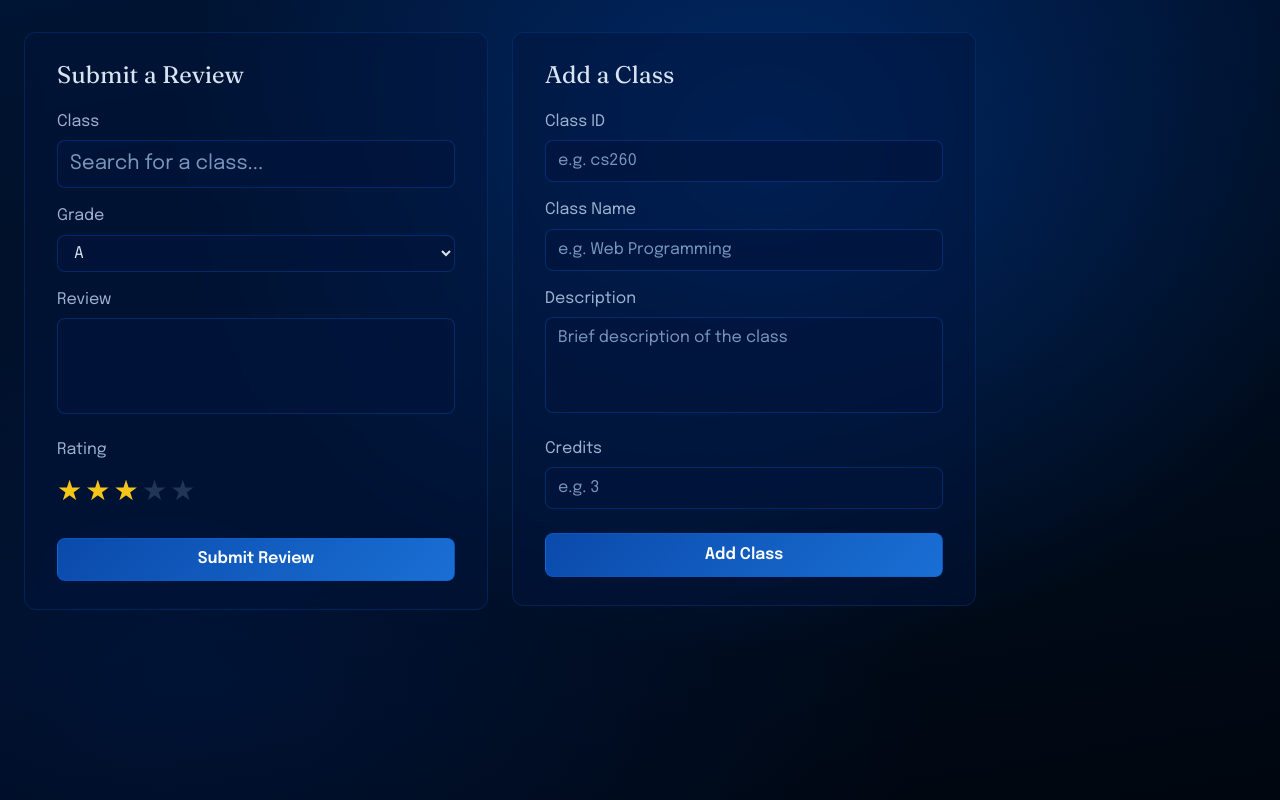
Test: ReviewMakerPage › shows error for an unrecognized class ID
This screenshot has width=1280, height=800.
Type "invalid999" into the field with placeholder "Search for a class..." at (256, 164), box x1=57 y1=140 x2=455 y2=188
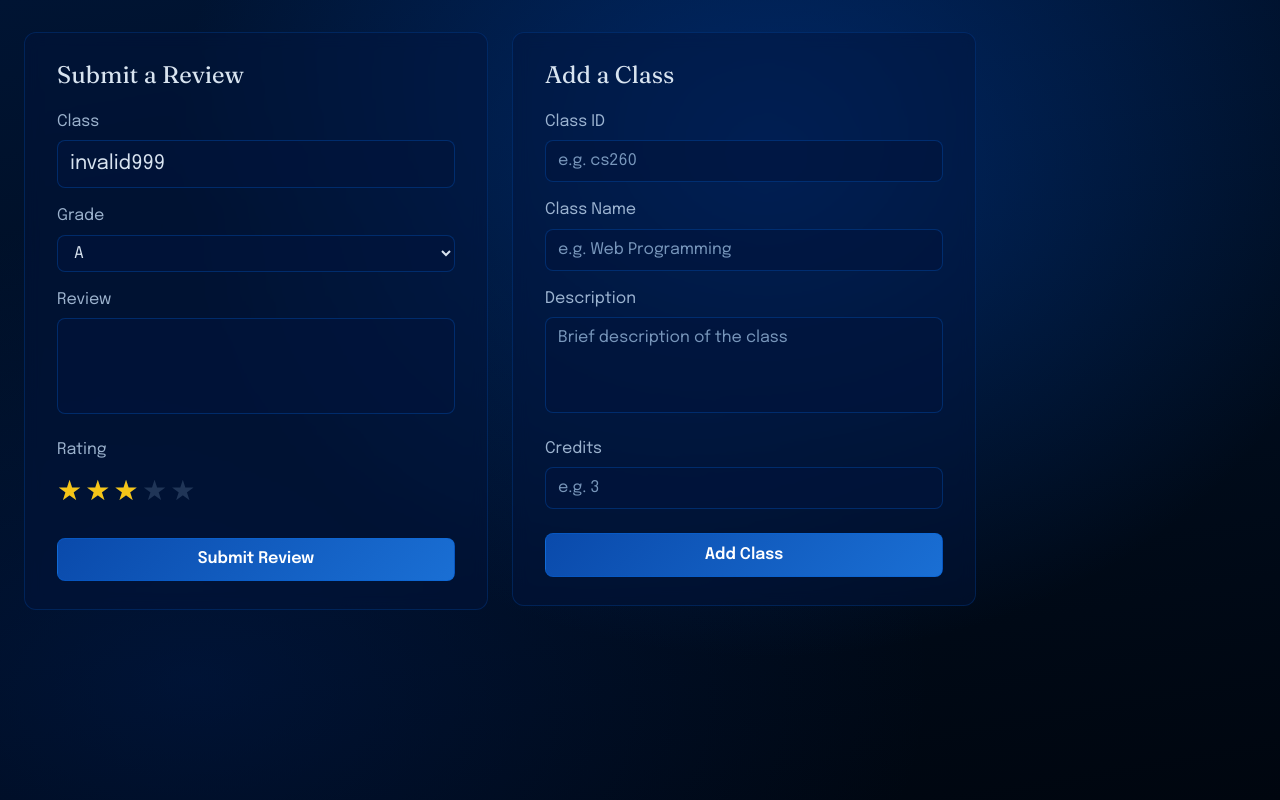
Type "Great class" into the 1st text box at (256, 366), box x1=57 y1=318 x2=455 y2=414
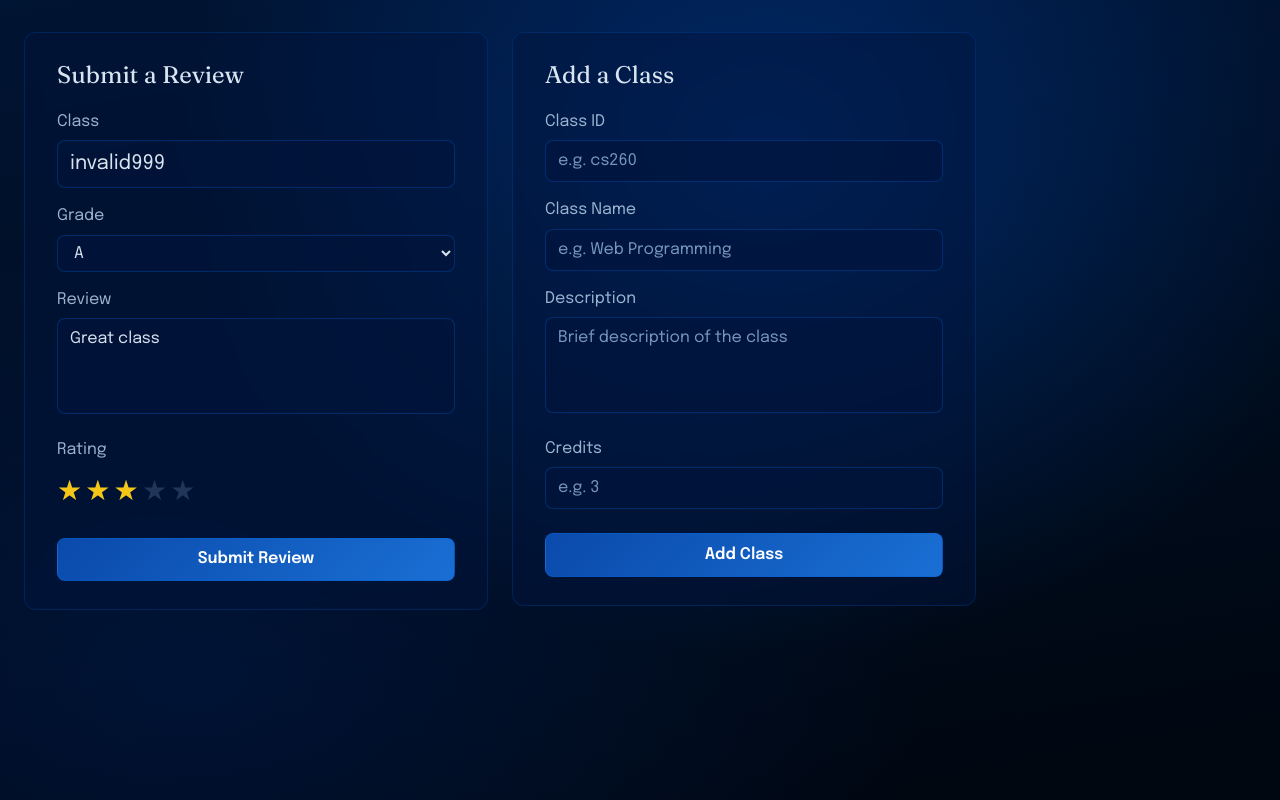
Submit the form "Submit Review", box x1=57 y1=110 x2=455 y2=581
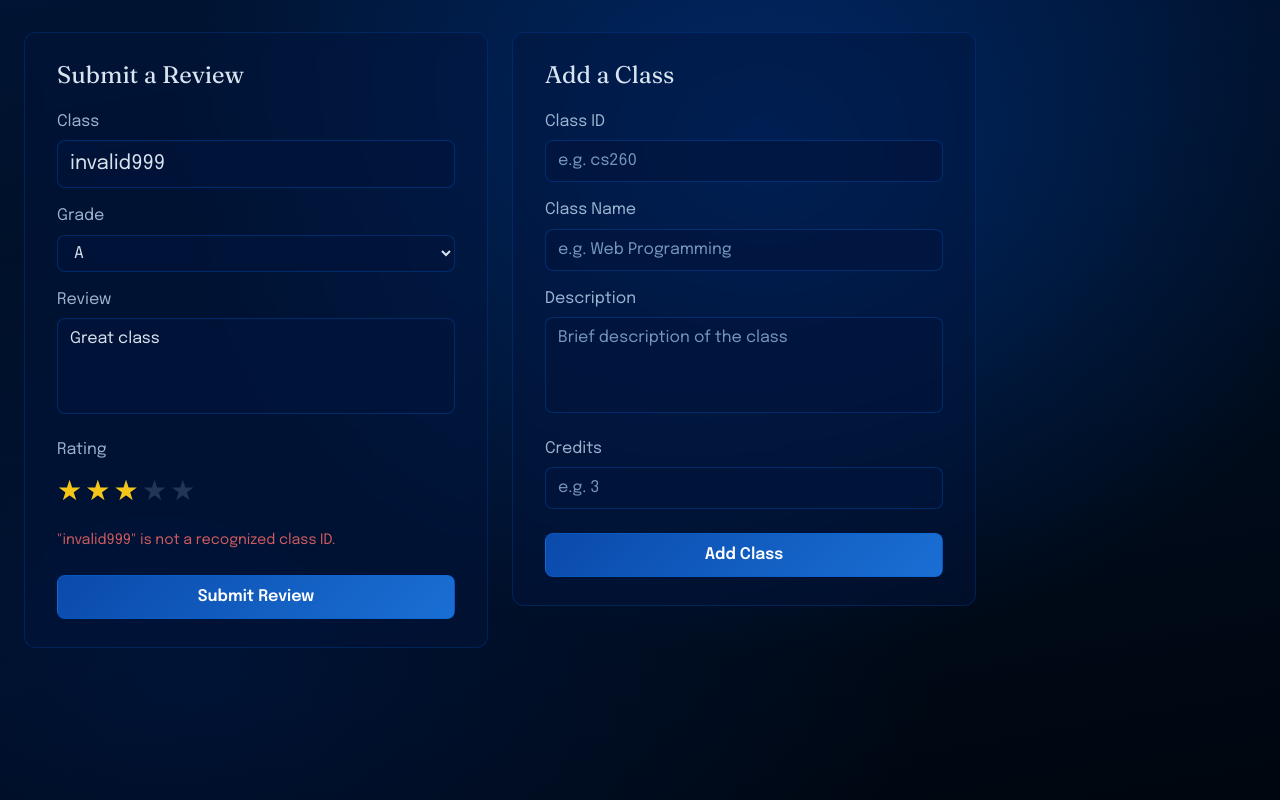
expect the text "\"invalid999\" is not a recognized class ID." is shown: met, box x1=57 y1=533 x2=335 y2=547
